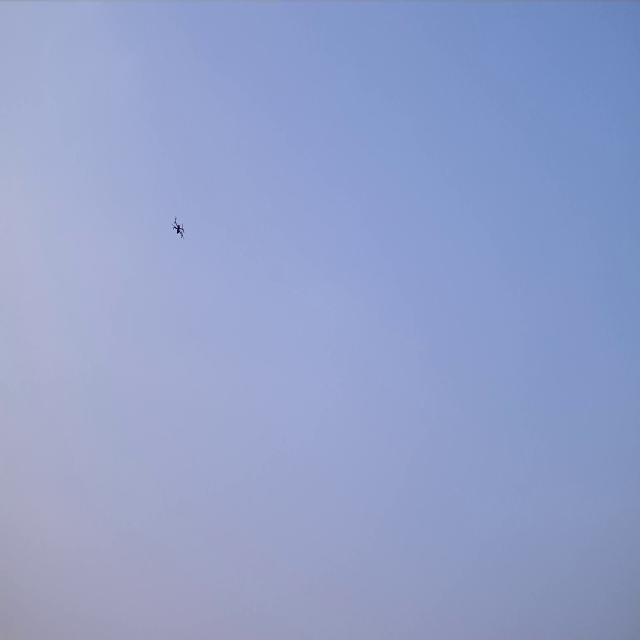UAV: (171, 215, 186, 240)
